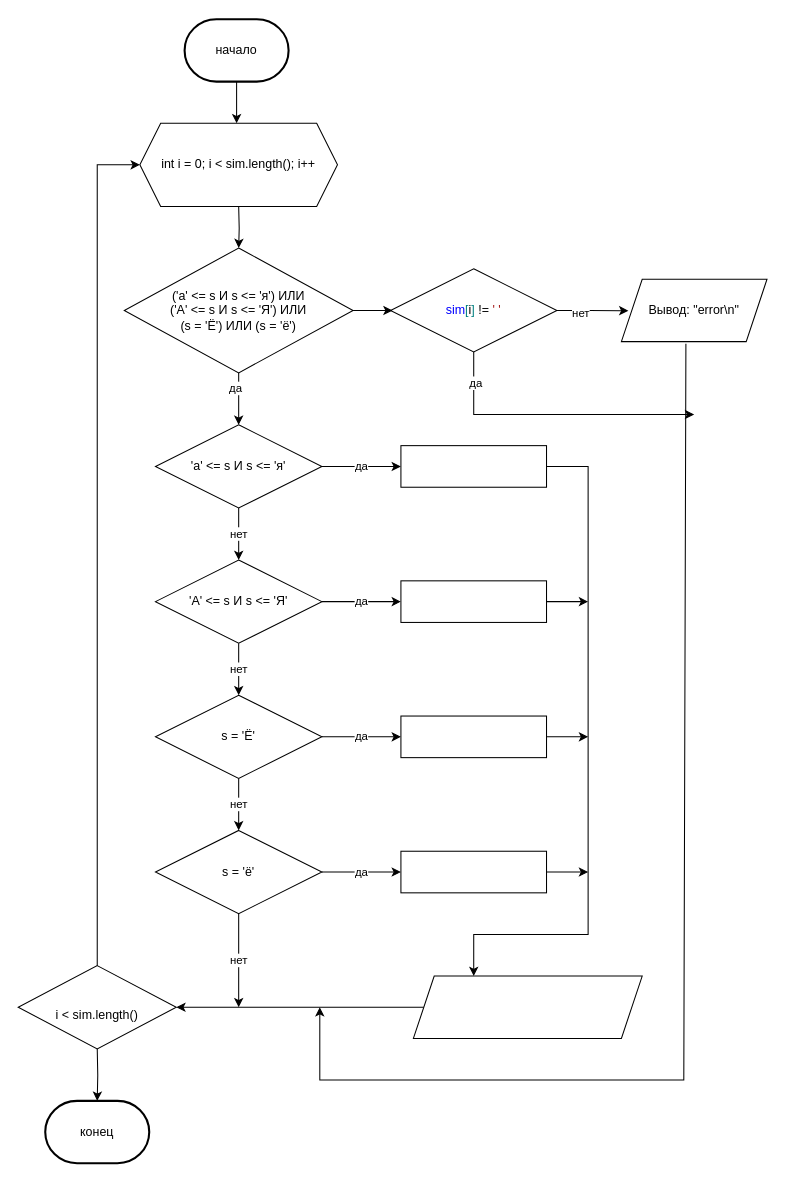
Image size: 785x1181. Some labels were removed from this diagram. Each missing label, with the centre of its shape:
diff = (s + 16) - s: [473,736]
diff = (s + 32) - s: [473,601]
diff = s - (s - 16): [473,871]
diff = s - (s - 32): [473,466]
Вывод: "Разница кодов... ", diff: [527,1006]
